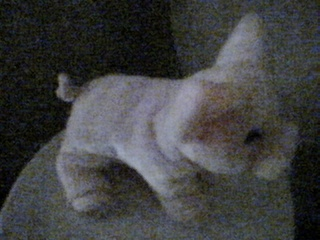piggy: (54, 10, 302, 226)
